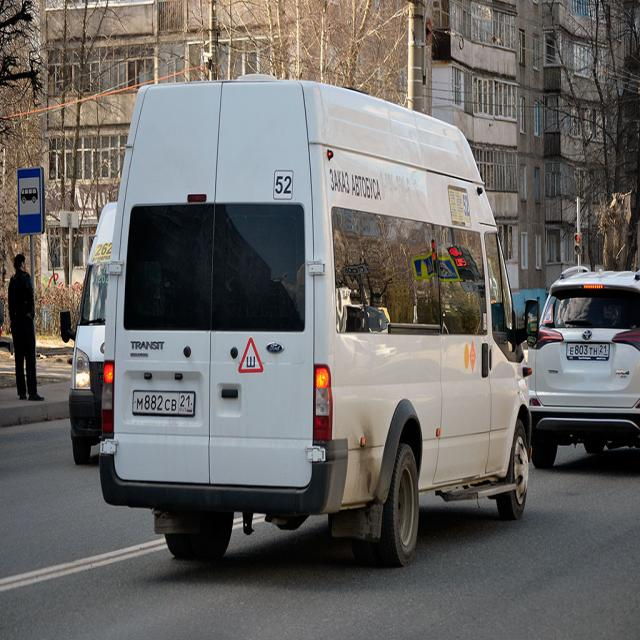number-of-bus: (275, 170, 297, 201)
